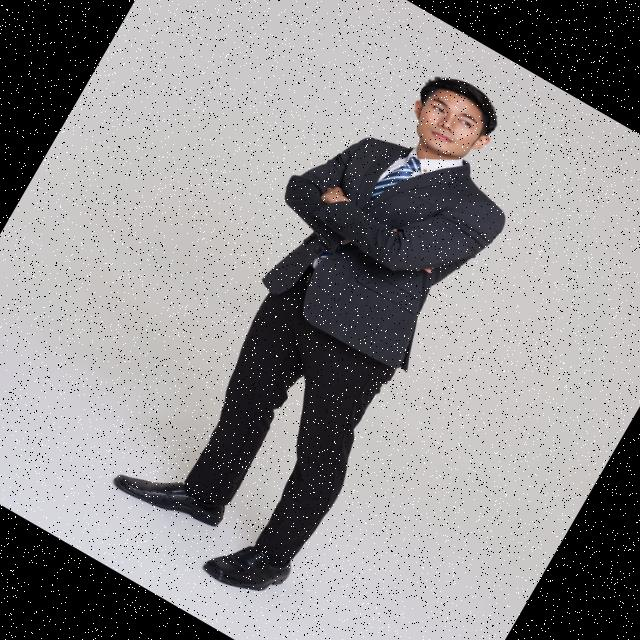Person: (95, 28, 558, 618)
